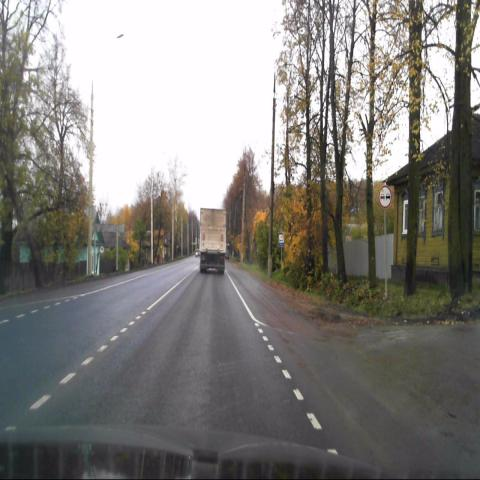3_20: (378, 186, 392, 207)
